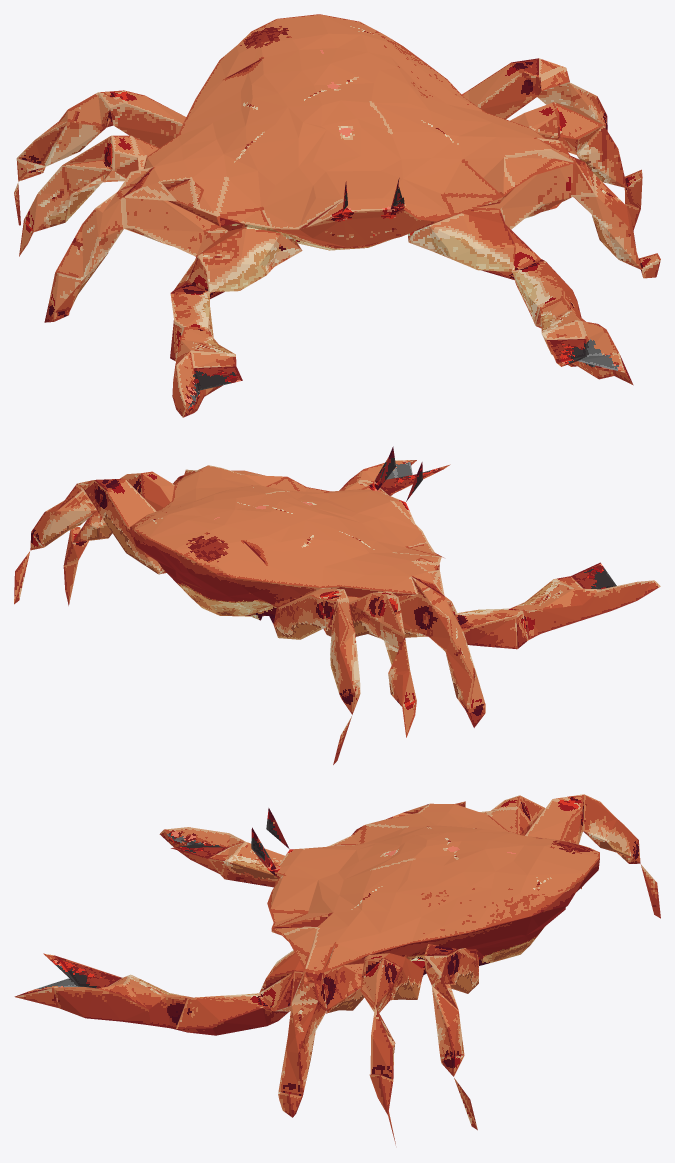
File: kanigon.glb
3 views of the same model, one above another, from view 1: azimuth 30°, elevation 25°; view 2: azimuth 150°, elevation 25°; view 3: azimuth 270°, elevation 25° (orthographic). The views are drawn at different scales.
Visible parts, largest first — view 1: model_m; view 2: model_m; view 3: model_m.
Part boxes in pixels (x1,y1,x2,y2): model_m: (14,14,660,417); model_m: (14,446,660,764); model_m: (14,794,660,1144).
Bounding box in the file's own units: 47.32 × 16.13 × 49.1.
Materials: 1 (1 with a texture image).
